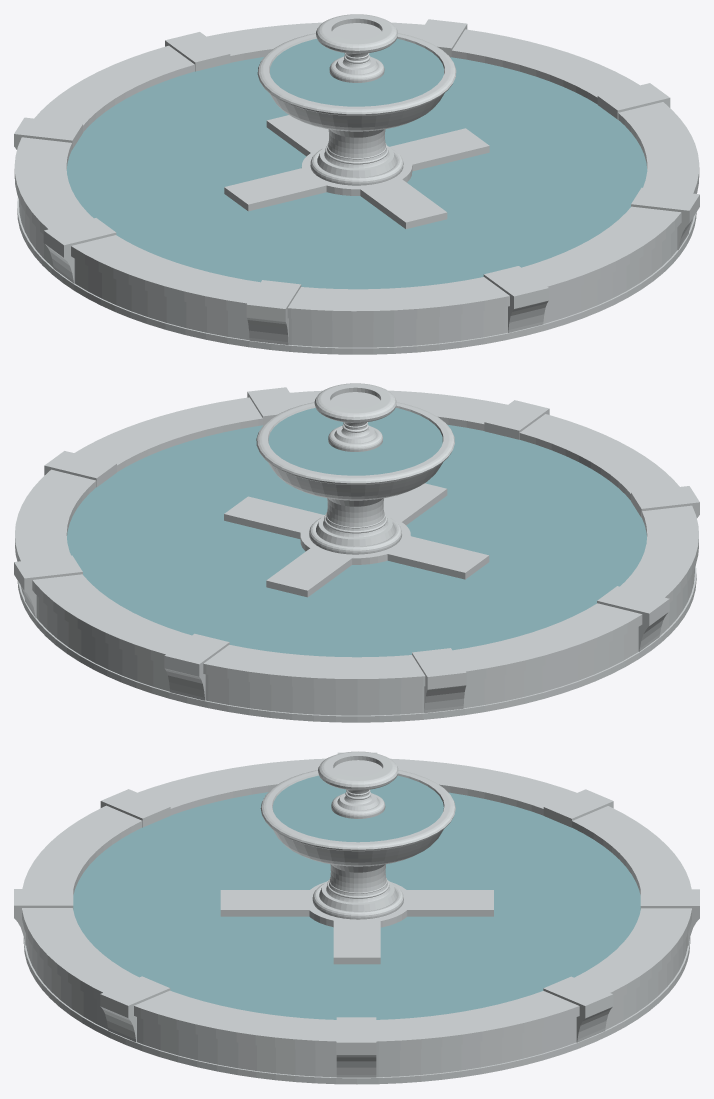
The model's file is Fountain.fbx.
3 renders of one model, top to bottom at view 1: azimuth 30°, elevation 25°; view 2: azimuth 150°, elevation 25°; view 3: azimuth 270°, elevation 25°, orthographic.
Parts seen in each view (by area): view 1: bai01; view 2: bai01; view 3: bai01.
Part boxes in pixels (left/top/right/bottom): bai01: left=14, top=14, right=699, bottom=354; bai01: left=14, top=383, right=699, bottom=722; bai01: left=14, top=751, right=699, bottom=1084.
Bounding box in the file's own units: 0.4797 × 0.137 × 0.4797.
